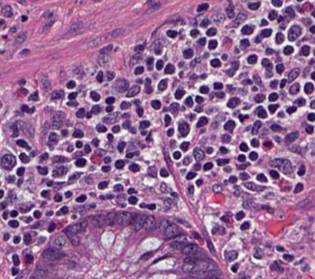nucleus: (87, 28, 124, 47), (183, 259, 216, 272), (271, 158, 292, 173), (116, 211, 136, 225), (64, 221, 87, 232), (42, 249, 64, 260), (163, 222, 177, 237), (51, 112, 64, 128), (170, 236, 187, 248), (288, 25, 300, 40), (134, 214, 145, 230), (115, 79, 128, 92), (182, 244, 198, 254), (91, 214, 104, 226), (52, 235, 65, 247), (103, 113, 118, 123), (244, 182, 262, 190), (66, 232, 78, 244), (288, 68, 299, 81), (285, 132, 298, 143), (143, 216, 154, 229), (129, 54, 141, 65), (127, 85, 139, 96), (52, 167, 66, 176), (225, 250, 236, 261), (100, 44, 112, 54), (227, 97, 239, 107), (193, 148, 203, 160), (105, 212, 115, 224), (31, 270, 46, 278), (179, 122, 188, 135), (224, 120, 235, 130), (51, 90, 63, 99), (68, 173, 80, 182), (212, 226, 225, 234), (289, 83, 299, 93), (256, 107, 266, 117), (262, 58, 271, 69), (41, 79, 50, 90), (252, 121, 260, 133), (145, 78, 151, 93), (304, 83, 313, 93), (197, 117, 207, 126), (158, 79, 166, 90), (49, 132, 57, 143), (183, 49, 192, 58), (165, 64, 174, 73), (175, 89, 184, 98), (90, 91, 99, 100), (151, 100, 160, 109), (160, 183, 169, 192), (275, 33, 283, 43), (283, 46, 293, 54), (170, 103, 178, 113), (73, 129, 83, 137), (75, 158, 85, 166), (256, 173, 266, 181), (243, 200, 253, 208), (53, 156, 66, 162), (207, 239, 213, 252), (154, 43, 161, 54), (141, 252, 152, 259), (208, 40, 217, 48), (301, 46, 309, 55), (247, 55, 256, 63), (276, 64, 284, 73), (106, 71, 114, 80), (29, 92, 38, 100), (255, 94, 264, 102), (120, 101, 129, 109), (76, 108, 84, 117), (203, 162, 212, 170), (148, 167, 156, 176), (98, 181, 107, 189), (294, 183, 302, 192), (271, 262, 280, 270), (261, 29, 271, 36), (295, 98, 305, 105), (271, 124, 281, 131), (117, 141, 124, 151), (129, 164, 139, 171), (217, 159, 228, 165), (190, 29, 198, 37), (135, 66, 143, 74), (269, 93, 277, 101), (269, 104, 277, 112), (92, 105, 100, 113), (122, 120, 130, 128), (180, 142, 188, 150), (249, 151, 257, 159), (40, 153, 48, 161), (115, 160, 123, 168), (160, 168, 168, 176), (270, 170, 278, 178), (129, 196, 137, 204), (236, 211, 244, 219), (167, 30, 176, 37), (211, 59, 220, 66), (156, 60, 163, 69), (66, 81, 75, 88), (199, 86, 208, 93), (185, 97, 192, 106), (140, 121, 149, 128), (221, 135, 230, 142), (38, 167, 47, 174), (186, 172, 195, 179), (76, 195, 85, 202), (165, 199, 174, 206), (240, 222, 249, 229), (96, 71, 102, 81), (67, 100, 77, 106), (96, 125, 106, 131), (126, 152, 138, 157), (283, 254, 293, 260), (241, 39, 249, 46), (214, 82, 222, 89), (68, 92, 76, 99), (106, 97, 114, 104), (287, 106, 295, 113), (306, 125, 313, 133), (263, 141, 271, 148), (240, 143, 247, 151), (173, 151, 180, 159), (114, 184, 122, 191), (213, 184, 221, 191), (48, 223, 55, 231), (254, 75, 260, 84), (298, 166, 304, 175), (147, 57, 152, 67), (165, 115, 170, 125), (227, 68, 234, 75), (270, 80, 277, 87), (196, 96, 203, 103), (251, 139, 258, 146), (41, 190, 48, 197), (54, 194, 61, 201), (135, 45, 143, 51), (280, 79, 286, 87), (240, 173, 248, 179), (137, 107, 142, 116), (146, 204, 155, 209), (198, 38, 205, 44), (106, 105, 112, 112), (308, 113, 314, 120), (112, 126, 119, 132), (167, 128, 173, 135), (92, 138, 98, 145), (220, 147, 227, 153), (183, 157, 189, 164), (229, 176, 236, 182), (61, 206, 67, 213), (34, 210, 40, 217), (231, 264, 237, 271), (243, 79, 251, 84), (216, 92, 224, 97), (239, 115, 247, 120), (188, 185, 193, 193), (266, 48, 272, 54), (76, 141, 82, 147), (238, 155, 244, 161), (194, 163, 200, 169), (238, 164, 247, 168), (196, 179, 202, 185), (65, 191, 71, 197), (100, 195, 112, 198), (85, 145, 90, 152), (102, 166, 109, 171), (128, 188, 135, 193), (195, 106, 201, 111), (86, 112, 91, 118), (62, 129, 67, 135), (107, 134, 112, 140), (207, 147, 212, 153), (104, 157, 110, 162), (277, 246, 283, 251), (122, 113, 129, 117), (311, 100, 314, 108), (224, 167, 230, 171), (32, 223, 38, 227), (311, 72, 314, 79), (147, 134, 150, 141), (255, 37, 259, 42), (222, 54, 226, 59), (278, 112, 283, 116), (171, 192, 176, 196), (47, 211, 52, 215), (48, 181, 52, 185), (194, 233, 198, 237), (252, 87, 256, 90), (141, 131, 145, 134), (68, 146, 71, 150)
